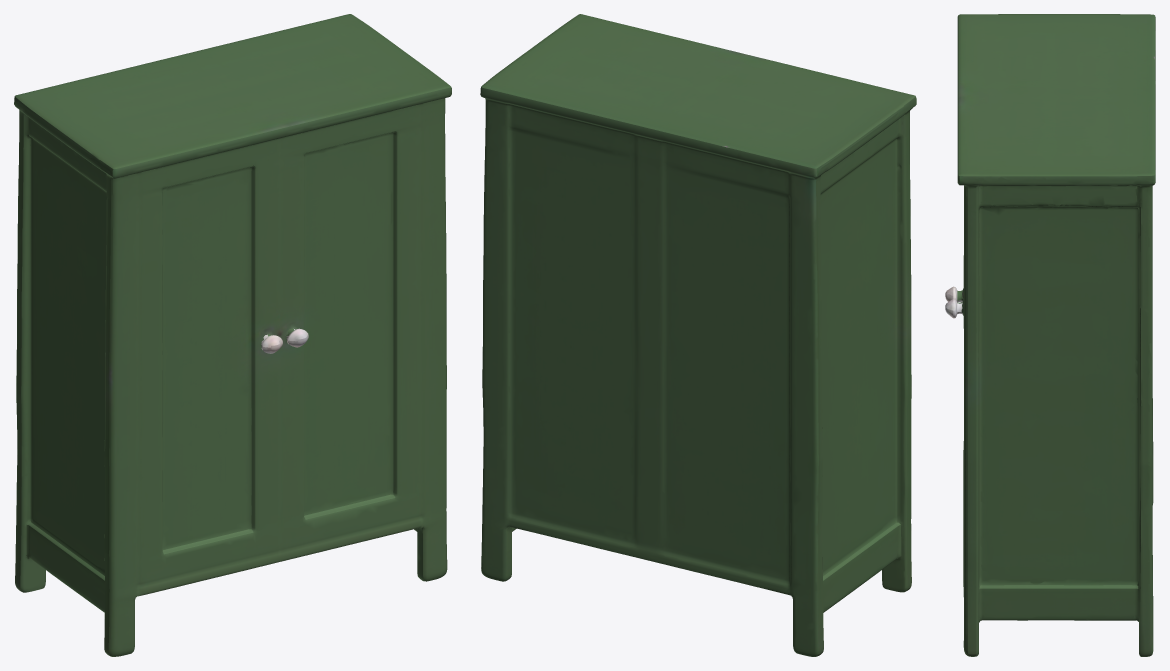
Rendered from cabinet__cabinet#2.glb.
3 views of the same model, side by side, from view 1: azimuth 30°, elevation 25°; view 2: azimuth 150°, elevation 25°; view 3: azimuth 270°, elevation 25° (orthographic). The views are drawn at different scales.
Parts seen in each view (by area): view 1: tmpy114v_wc.ply; view 2: tmpy114v_wc.ply; view 3: tmpy114v_wc.ply.
Boxes of the visible parts, x1,y1,x2,y2 form: tmpy114v_wc.ply: (14,14,451,656); tmpy114v_wc.ply: (480,14,916,656); tmpy114v_wc.ply: (945,14,1155,656).
Bounding box in the file's own units: 1.44 × 1.99 × 0.7841.
1 material, 1 textured.
